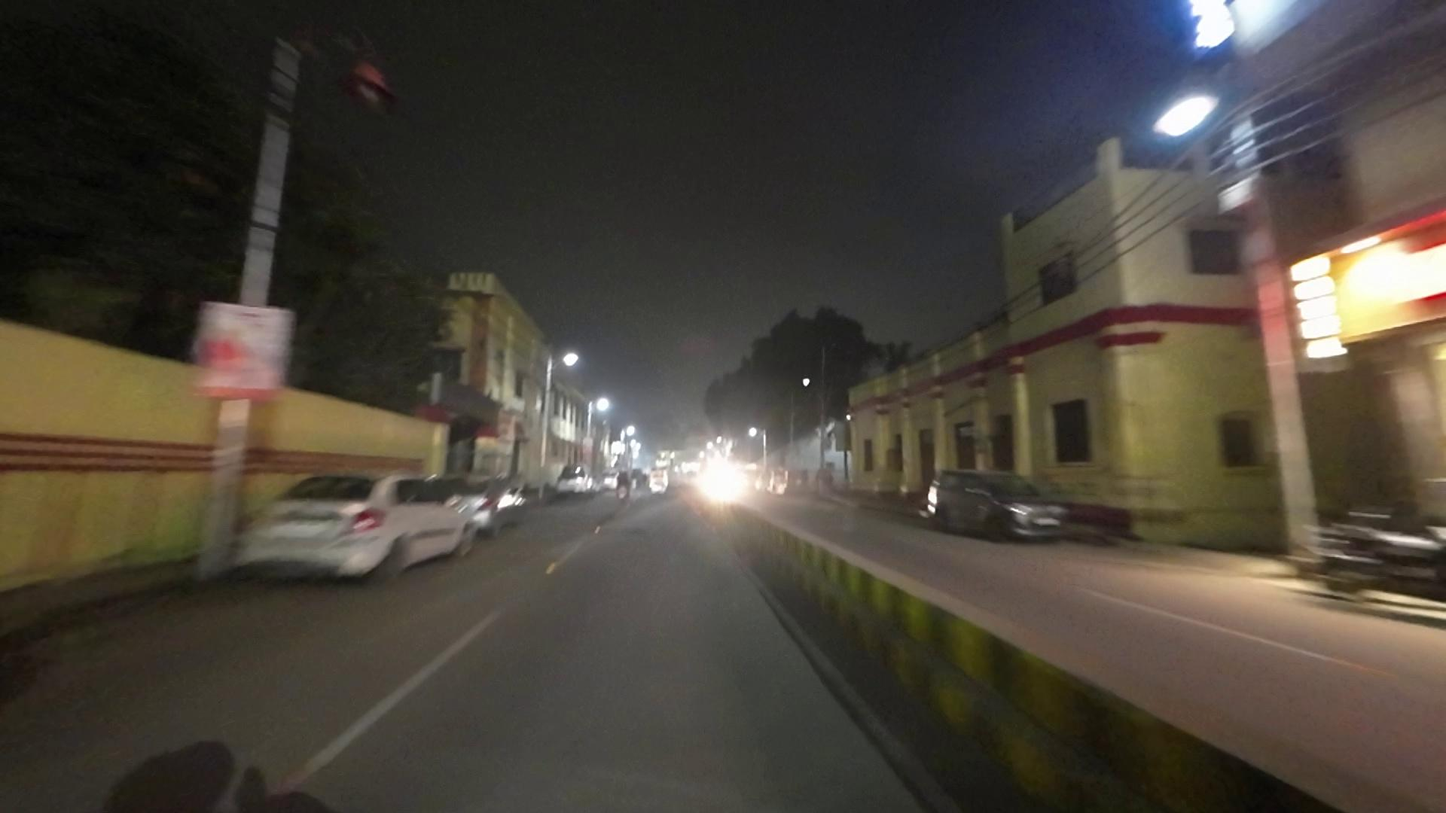streetlight: (331, 25, 395, 118)
